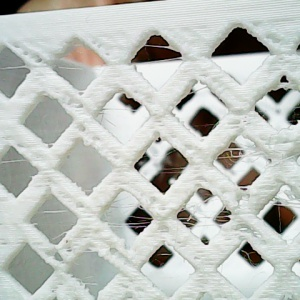3dpstringing: (178, 192, 234, 244), (214, 143, 273, 186), (101, 194, 158, 237), (36, 206, 82, 241), (96, 107, 148, 135), (137, 40, 187, 69), (48, 59, 105, 78), (264, 192, 298, 215), (154, 165, 197, 180), (66, 275, 103, 292), (1, 61, 31, 78), (275, 154, 300, 173), (2, 154, 28, 171), (237, 249, 262, 265), (186, 82, 210, 98), (275, 79, 294, 98), (82, 186, 95, 197)
3dpunderextrusion: (53, 85, 102, 140), (235, 191, 265, 244), (42, 243, 81, 269), (13, 38, 46, 68), (160, 203, 174, 241)
